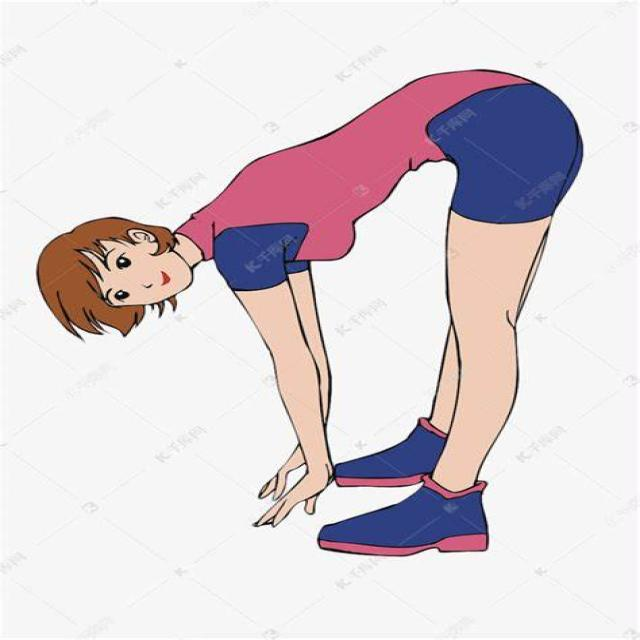stand: (49, 50, 554, 582)
